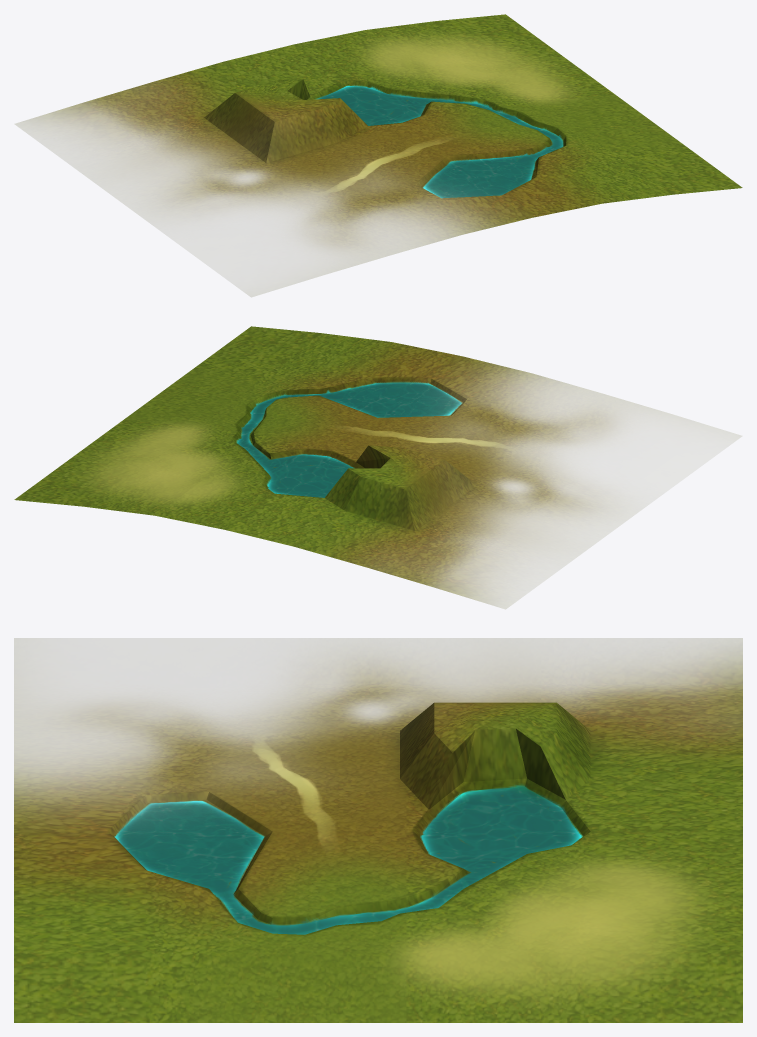
Rendered from QSMY_MJ_DX.FBX.
3 renders of one model, top to bottom at view 1: azimuth 30°, elevation 25°; view 2: azimuth 150°, elevation 25°; view 3: azimuth 270°, elevation 25°, orthographic. The views are drawn at different scales.
Parts seen in each view (by area): view 1: Plane01; view 2: Plane01; view 3: Plane01.
Boxes of the visible parts, box(x1,y1,x2,y2) form: Plane01: box(14, 14, 742, 297); Plane01: box(14, 326, 742, 609); Plane01: box(14, 638, 742, 1022).
Bounding box in the file's own units: 504 × 47.81 × 421.
